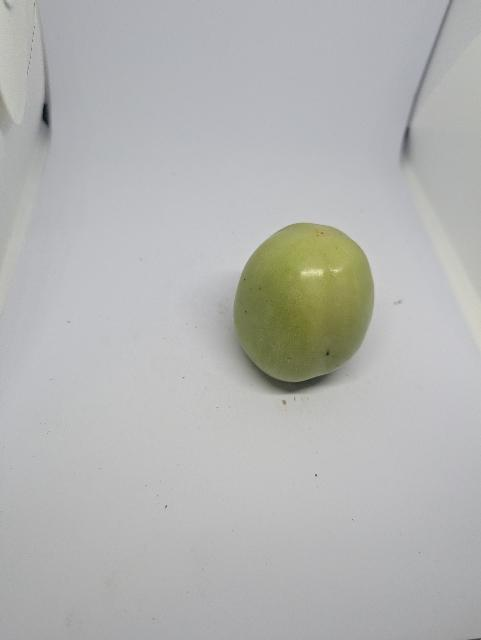green: (225, 197, 386, 410)
